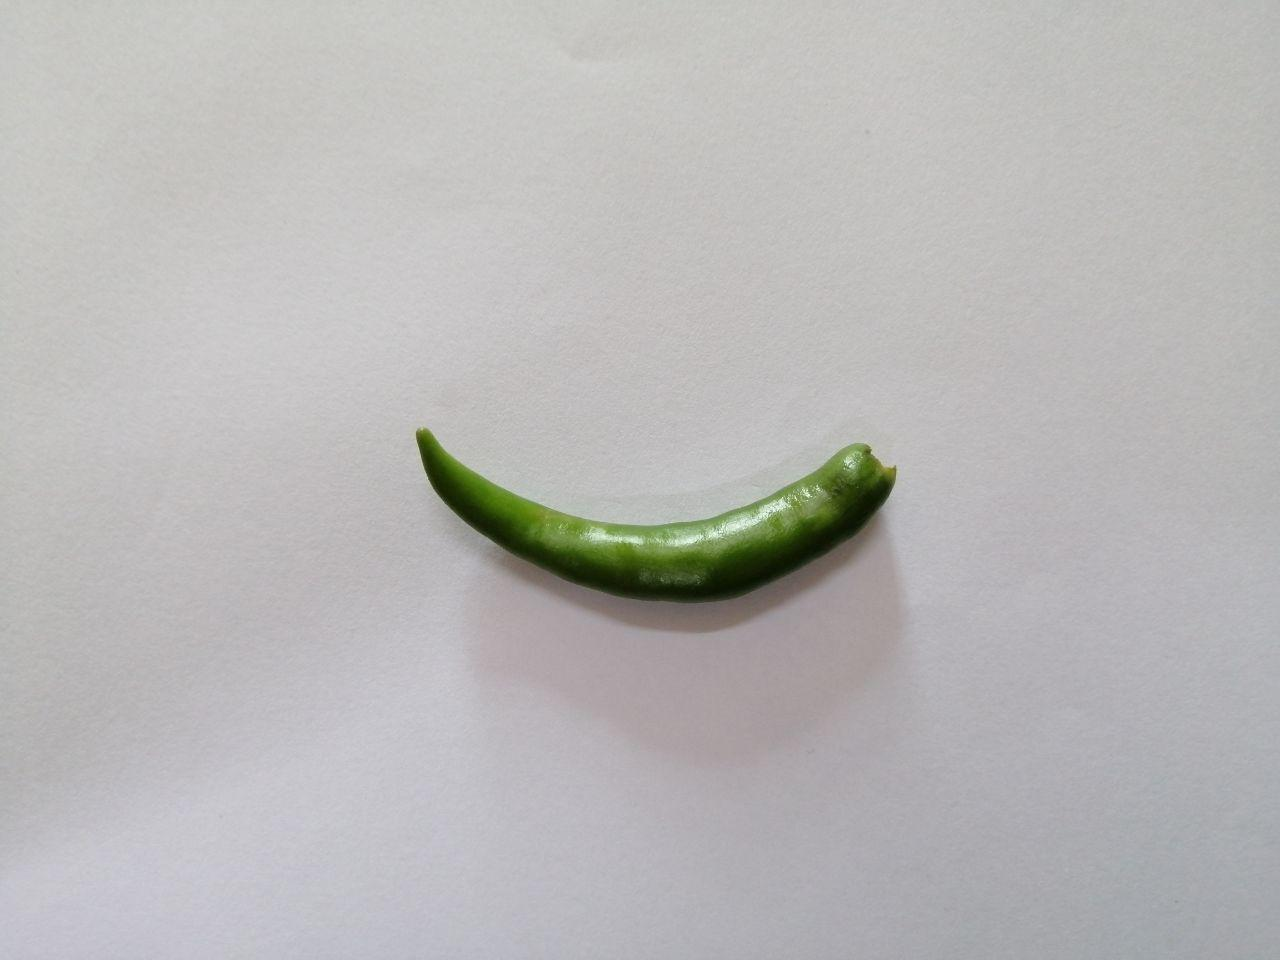lada hijau: (371, 392, 933, 658)
